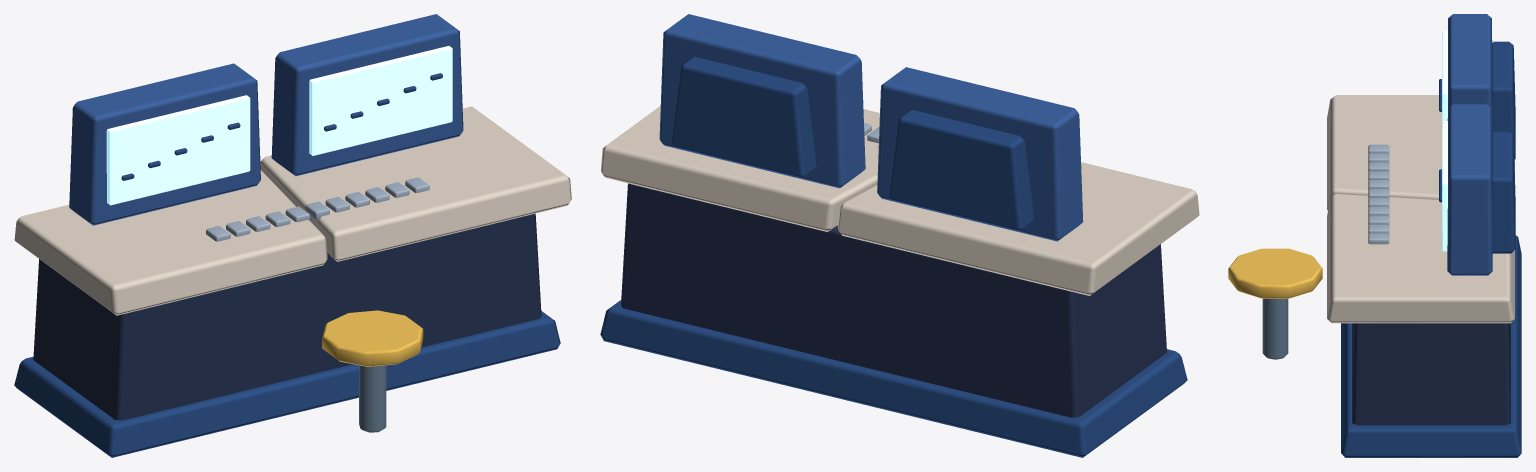
File: console.glb
3 renders of one model, left to right at view 1: azimuth 30°, elevation 25°; view 2: azimuth 150°, elevation 25°; view 3: azimuth 270°, elevation 25°, orthographic. The views are drawn at different scales.
Parts seen in each view (by area): view 1: console; view 2: console; view 3: console.
Boxes of the visible parts, x1=… form: console: x1=14, y1=14, x2=571, y2=457; console: x1=600, y1=14, x2=1199, y2=457; console: x1=1228, y1=14, x2=1521, y2=457.
Bounding box in the file's own units: 2.77 × 1.66 × 1.68.
